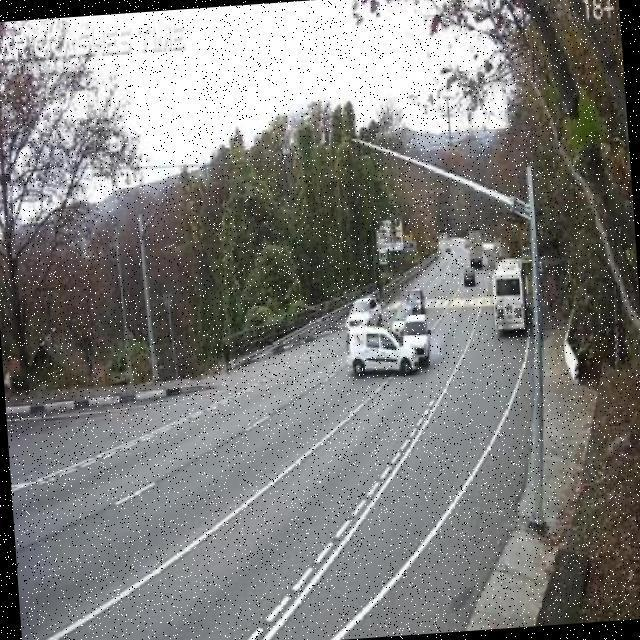accident: (345, 310, 435, 379)
